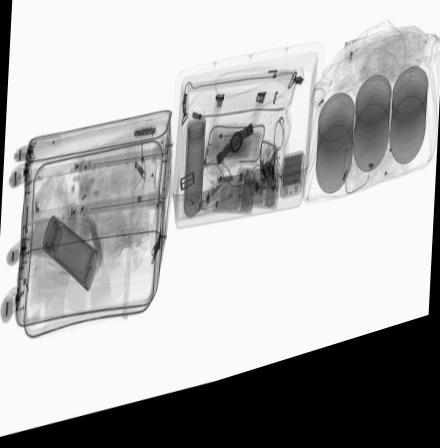Powerbank: (278, 167, 305, 218)
